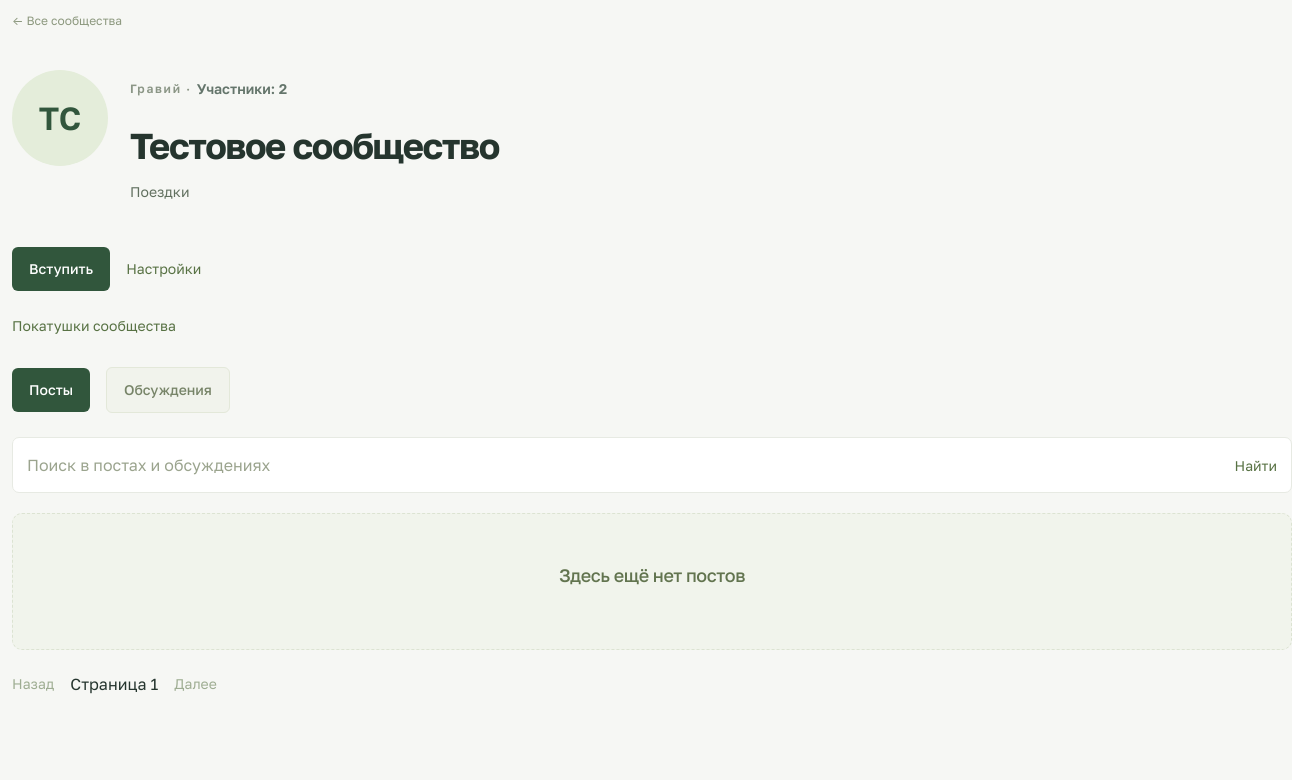
Test case: a failed discussion tab stops loading and can retry without showing old results
Check: the heading "Здесь ещё нет постов" is shown, box [559,564,745,586]
What coordinates should you click on to do the following:
click the button "Обсуждения"
I would click on:
 (168, 390)
Its box is [106,367,230,413].
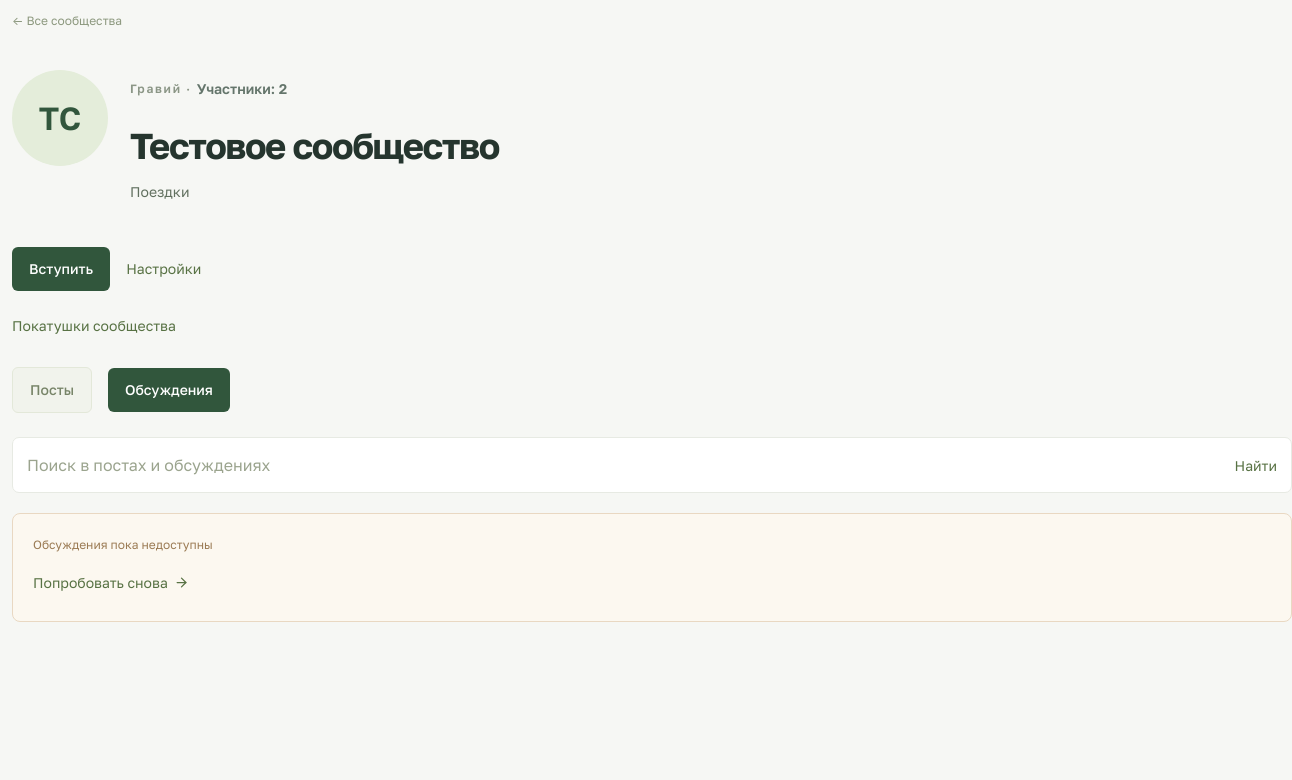
Check: the text "Обсуждения пока недоступны" is shown, box [33,537,213,552]
What coordinates should you click on to do the following:
click the button "Попробовать снова"
I would click on:
 (111, 583)
Its box is [33,565,189,601].
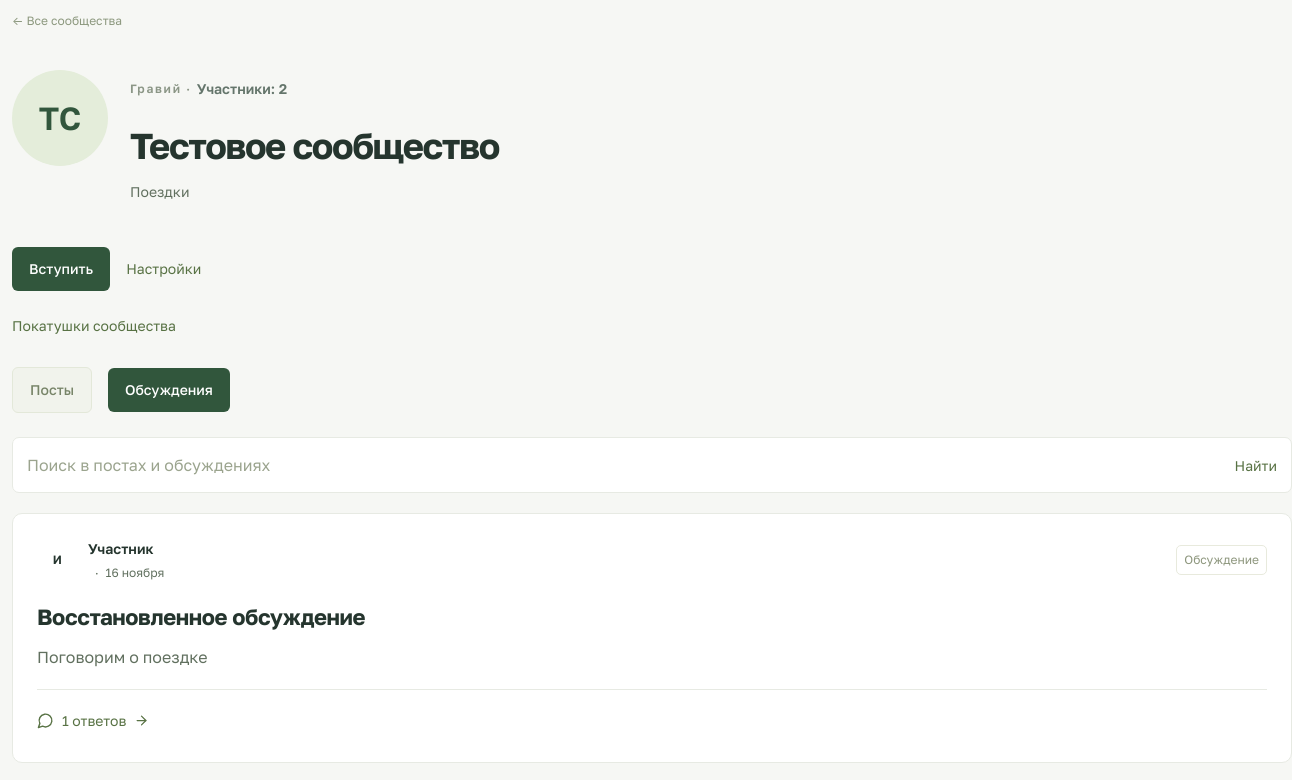
Check: the heading "Восстановленное обсуждение" is shown, box [37,603,365,630]
Check: the text "Обсуждения пока недоступны" is gone
